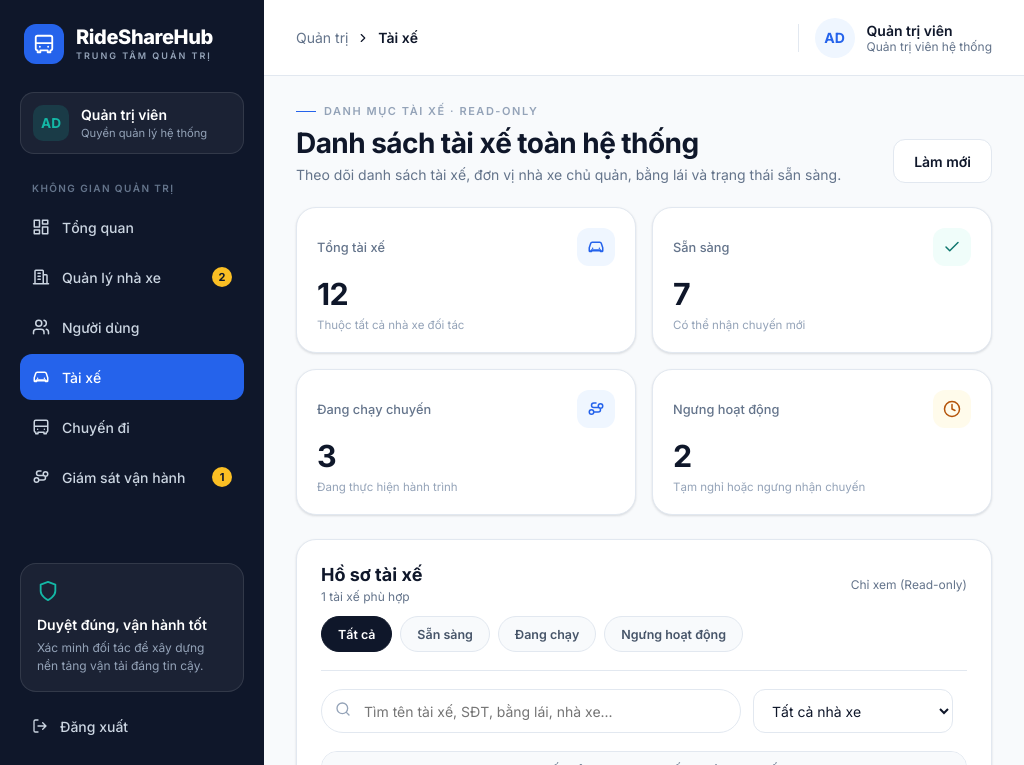
it: SP4-P1-02 & SP4-P1-04b: Admin Dashboard & Read-Only Directories › renders AdminDriverListPage with status chips and handles empty state cleanly
The image size is (1024, 765).
Click the tab "Ngưng hoạt động" at (674, 634), box [604,616,743,652]
(page scrolled)
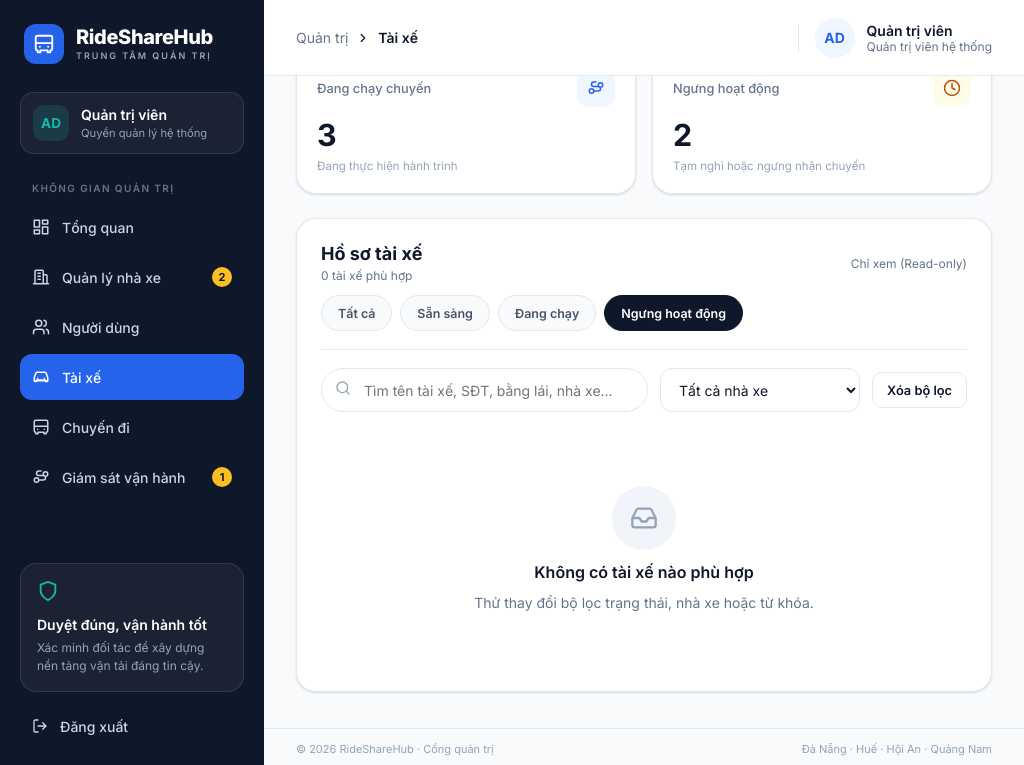
expect the text "Không có tài xế nào phù hợp" is shown: met, box [534,562,754,582]
